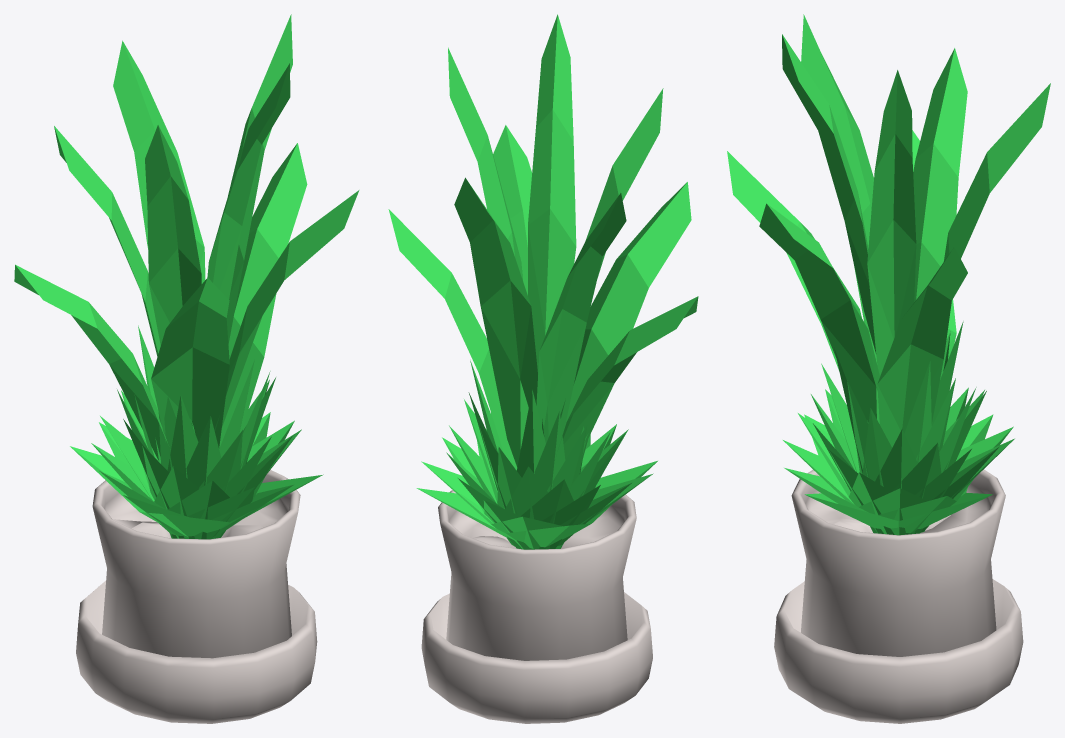
File: planten.glb
3 views of the same model, side by side, from view 1: azimuth 30°, elevation 25°; view 2: azimuth 150°, elevation 25°; view 3: azimuth 270°, elevation 25° (orthographic). The views are drawn at different scales.
Parts seen in each view (by area): view 1: Low-Poly Plant_.001, Low-Poly Plant_; view 2: Low-Poly Plant_.001, Low-Poly Plant_; view 3: Low-Poly Plant_.001, Low-Poly Plant_.
Part boxes in pixels (x1,y1,x2,y2): Low-Poly Plant_.001: [14, 14, 359, 539]; Low-Poly Plant_: [76, 470, 317, 723]; Low-Poly Plant_.001: [388, 14, 698, 549]; Low-Poly Plant_: [421, 490, 652, 723]; Low-Poly Plant_.001: [727, 14, 1050, 535]; Low-Poly Plant_: [774, 469, 1023, 723].
Bounding box in the file's own units: 0.6533 × 1.35 × 0.5929.
